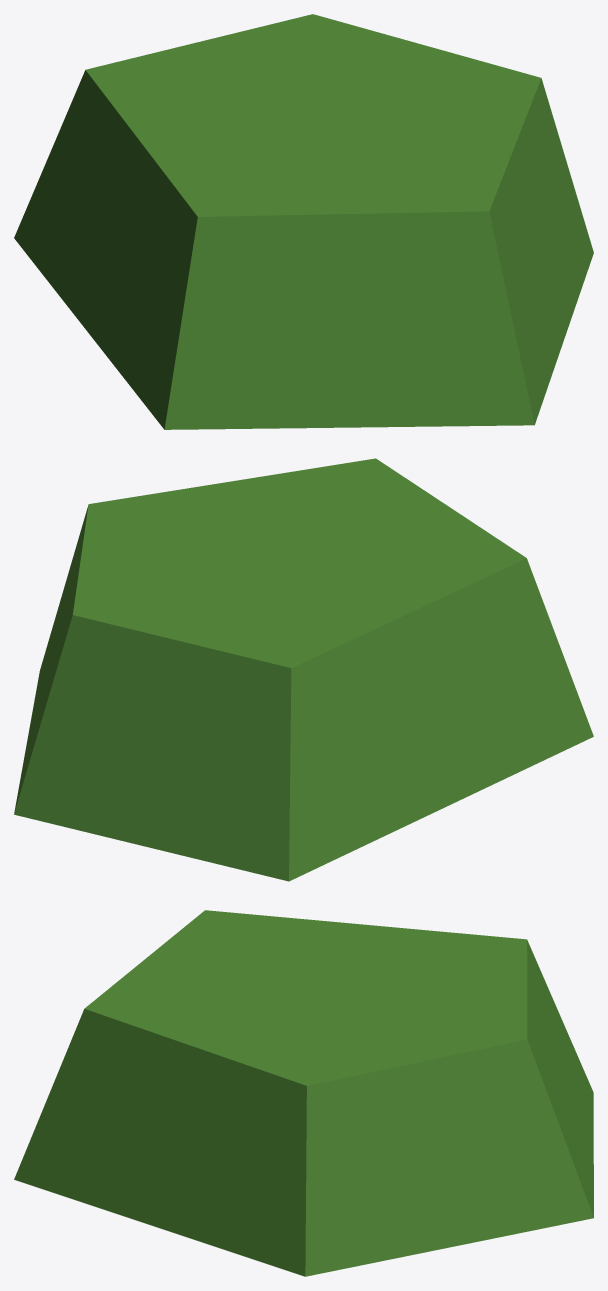
Rendered from grass_layer_crumb_mini_B.fbx.
3 renders of one model, top to bottom at view 1: azimuth 30°, elevation 25°; view 2: azimuth 150°, elevation 25°; view 3: azimuth 270°, elevation 25°, orthographic. The views are drawn at different scales.
Visible parts, largest first — view 1: grass_layer_crumb_mini_B; view 2: grass_layer_crumb_mini_B; view 3: grass_layer_crumb_mini_B.
Part boxes in pixels (x1=…): grass_layer_crumb_mini_B: x1=14, y1=14, x2=593, y2=429; grass_layer_crumb_mini_B: x1=14, y1=458, x2=593, y2=881; grass_layer_crumb_mini_B: x1=14, y1=910, x2=593, y2=1276.
Bounding box in the file's own units: 41.86 × 14.85 × 46.4.
